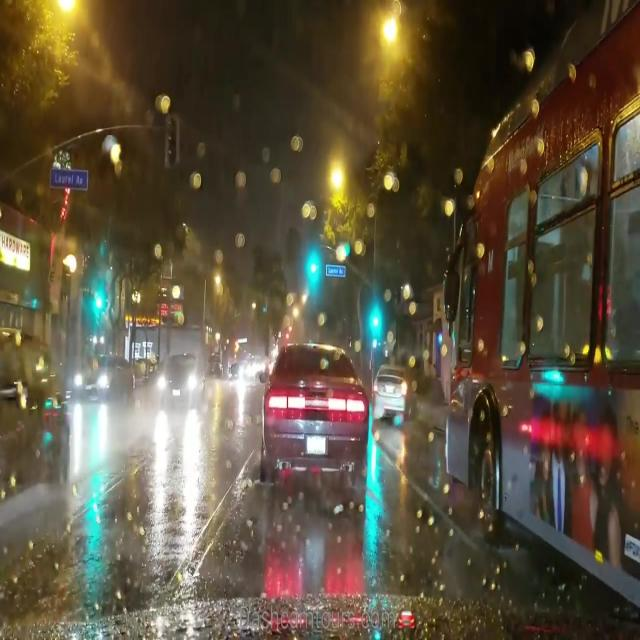Car: (258, 343, 368, 494), (0, 329, 74, 515), (154, 351, 203, 406), (77, 354, 132, 402), (371, 362, 412, 425)
